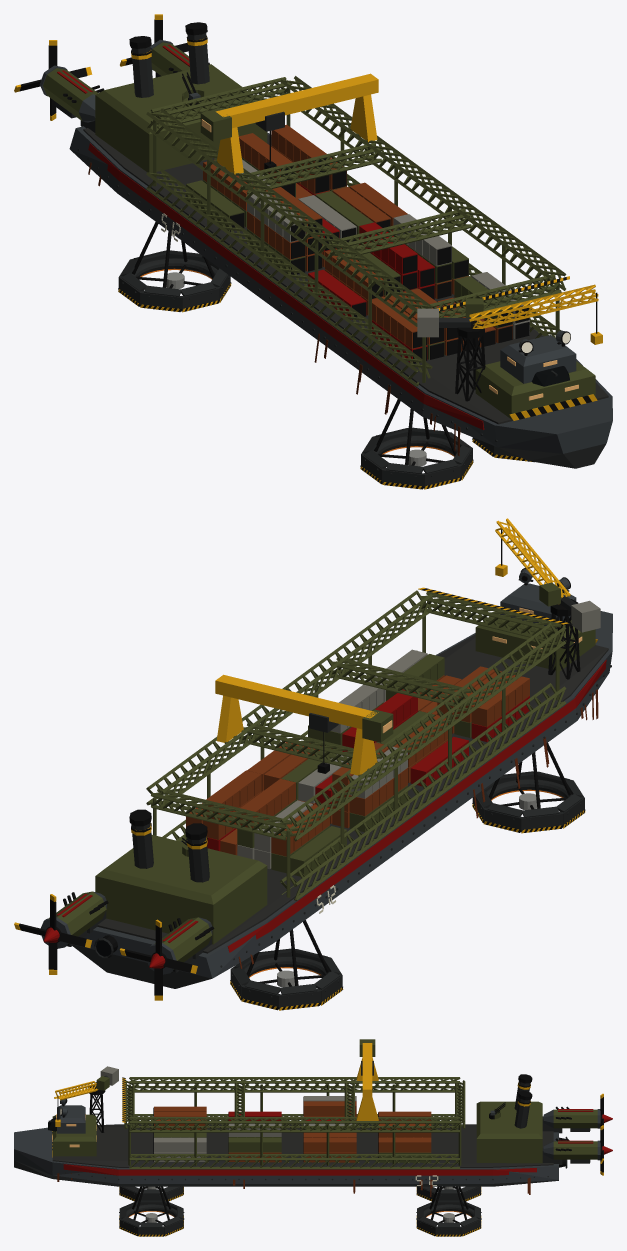
Rendered from cargo_barge.obj.
3 renders of one model, top to bottom at view 1: azimuth 30°, elevation 25°; view 2: azimuth 150°, elevation 25°; view 3: azimuth 270°, elevation 25°, orthographic. The views are drawn at different scales.
Parts seen in each view (by area): view 1: cargo_barge; view 2: cargo_barge; view 3: cargo_barge.
Boxes of the visible parts, x1=… form: cargo_barge: x1=14, y1=14, x2=612, y2=489; cargo_barge: x1=14, y1=518, x2=612, y2=1010; cargo_barge: x1=14, y1=1039, x2=612, y2=1236.
Size of the model in its own units: 145 by 155 by 600.
1 material, 1 textured.
